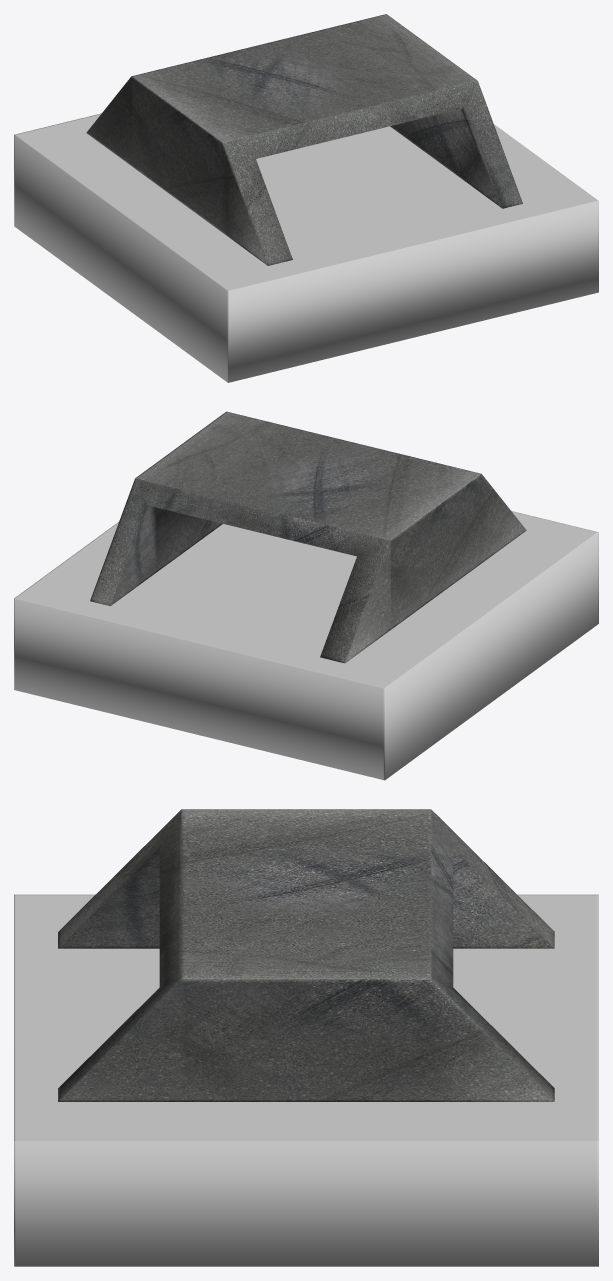
The model's file is short tunnel.fbx.
3 renders of one model, top to bottom at view 1: azimuth 30°, elevation 25°; view 2: azimuth 150°, elevation 25°; view 3: azimuth 270°, elevation 25°, orthographic. The views are drawn at different scales.
Visible parts, largest first — view 1: short tunnel; view 2: short tunnel; view 3: short tunnel.
Boxes of the visible parts, left/top/right/bottom form: short tunnel: left=14, top=14, right=598, bottom=382; short tunnel: left=14, top=411, right=598, bottom=780; short tunnel: left=14, top=809, right=598, bottom=1266.
Bounding box in the file's own units: 390 × 182 × 390.
